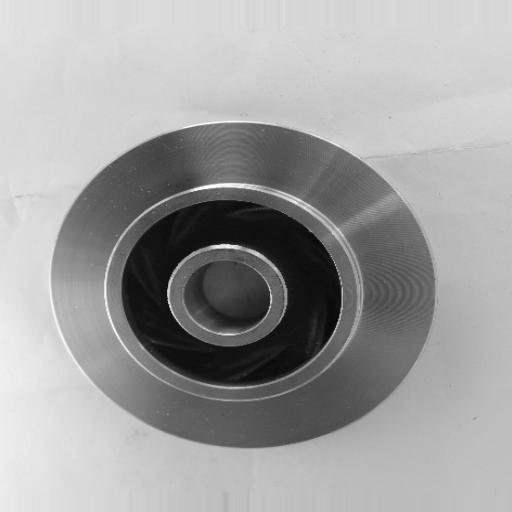polished_casting: (47, 120, 440, 453)
